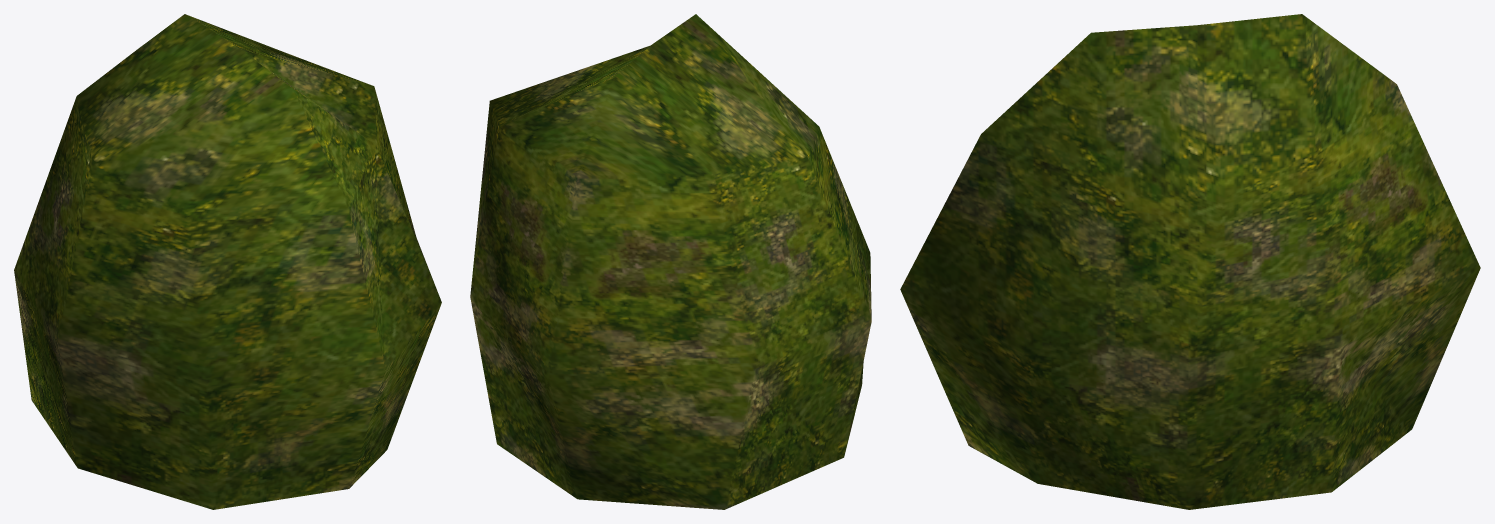
File: OVERHILL_A_01_ROCK203.fbx
The picture shows the model from 3 angles, left to right: view 1: azimuth 30°, elevation 25°; view 2: azimuth 150°, elevation 25°; view 3: azimuth 270°, elevation 25°; orthographic projection. The views are drawn at different scales.
Parts seen in each view (by area): view 1: OVERHILL_A_01_ROCK203; view 2: OVERHILL_A_01_ROCK203; view 3: OVERHILL_A_01_ROCK203.
Boxes of the visible parts, bbox=[...] form: OVERHILL_A_01_ROCK203: bbox=[14, 14, 441, 509]; OVERHILL_A_01_ROCK203: bbox=[470, 14, 871, 509]; OVERHILL_A_01_ROCK203: bbox=[900, 14, 1480, 509].
Bounding box in the file's own units: 11327 × 10892 × 13575.
Materials: 1 (1 with a texture image).
